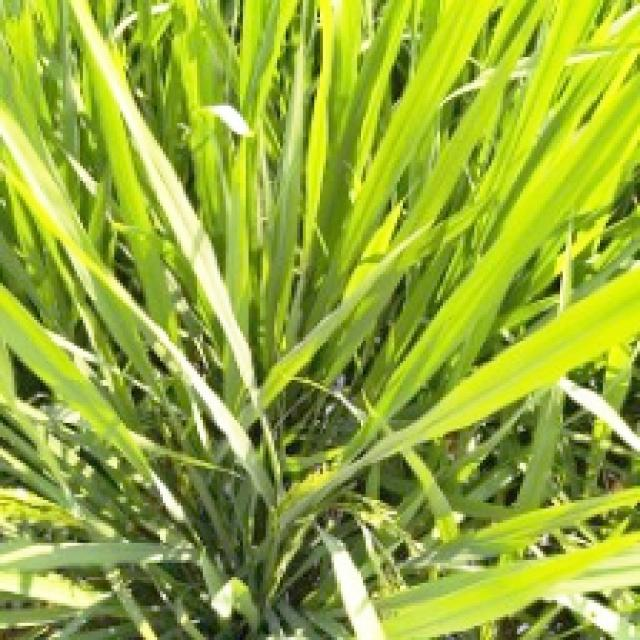health: (370, 554, 640, 640)
